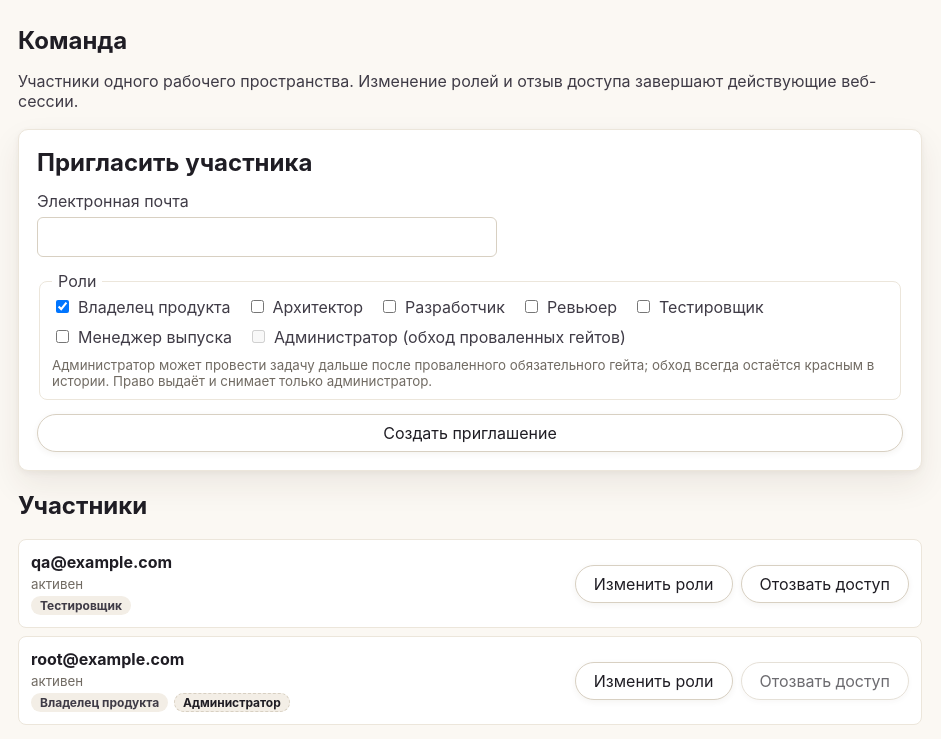
Test: Team role editing › does not save an empty set of roles
This screenshot has width=941, height=739.
Click the button with aria-label "Изменить роли: qa@example.com" at (654, 584), box [575, 565, 732, 603]
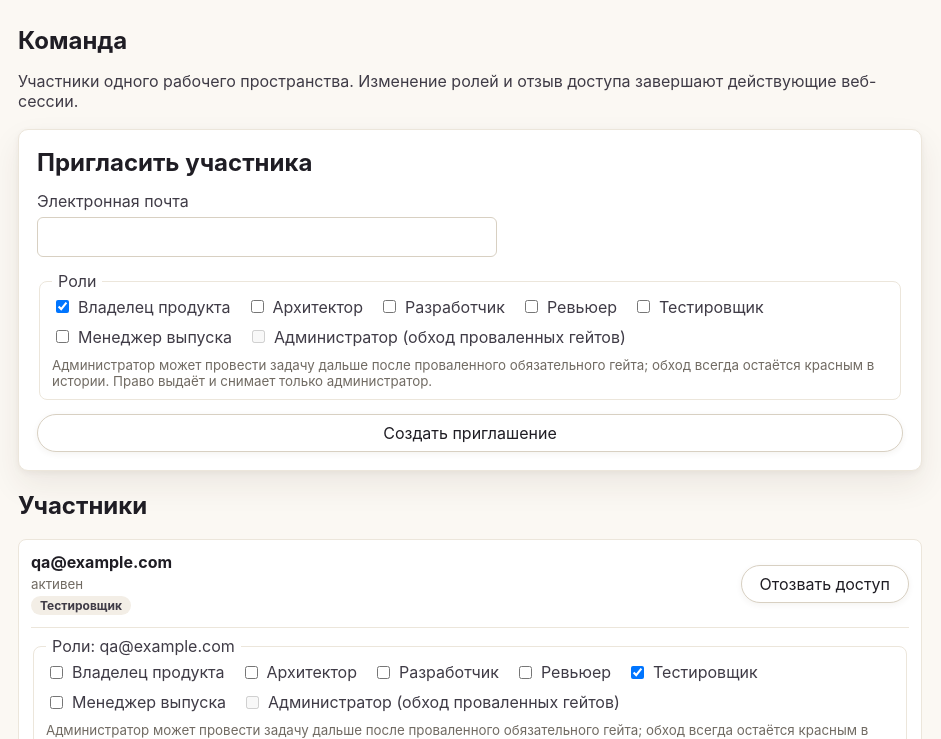
Click the 2nd checkbox labelled "Тестировщик" at (638, 672), box [631, 666, 644, 678]
(page scrolled)
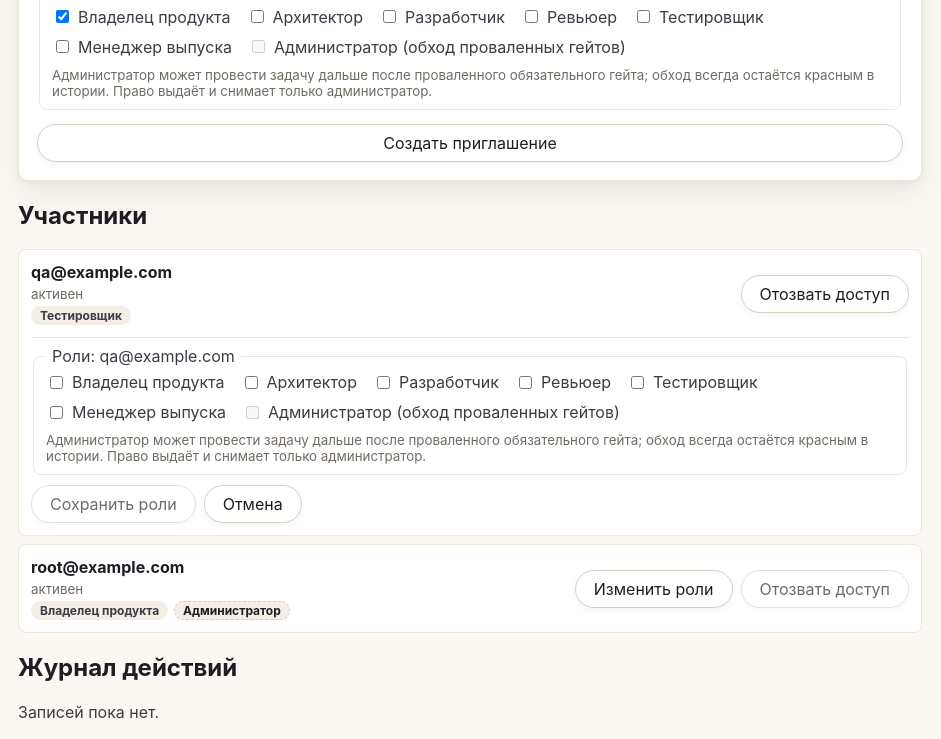
Expected: the button "Сохранить роли" is disabled, [31, 485, 196, 523]
